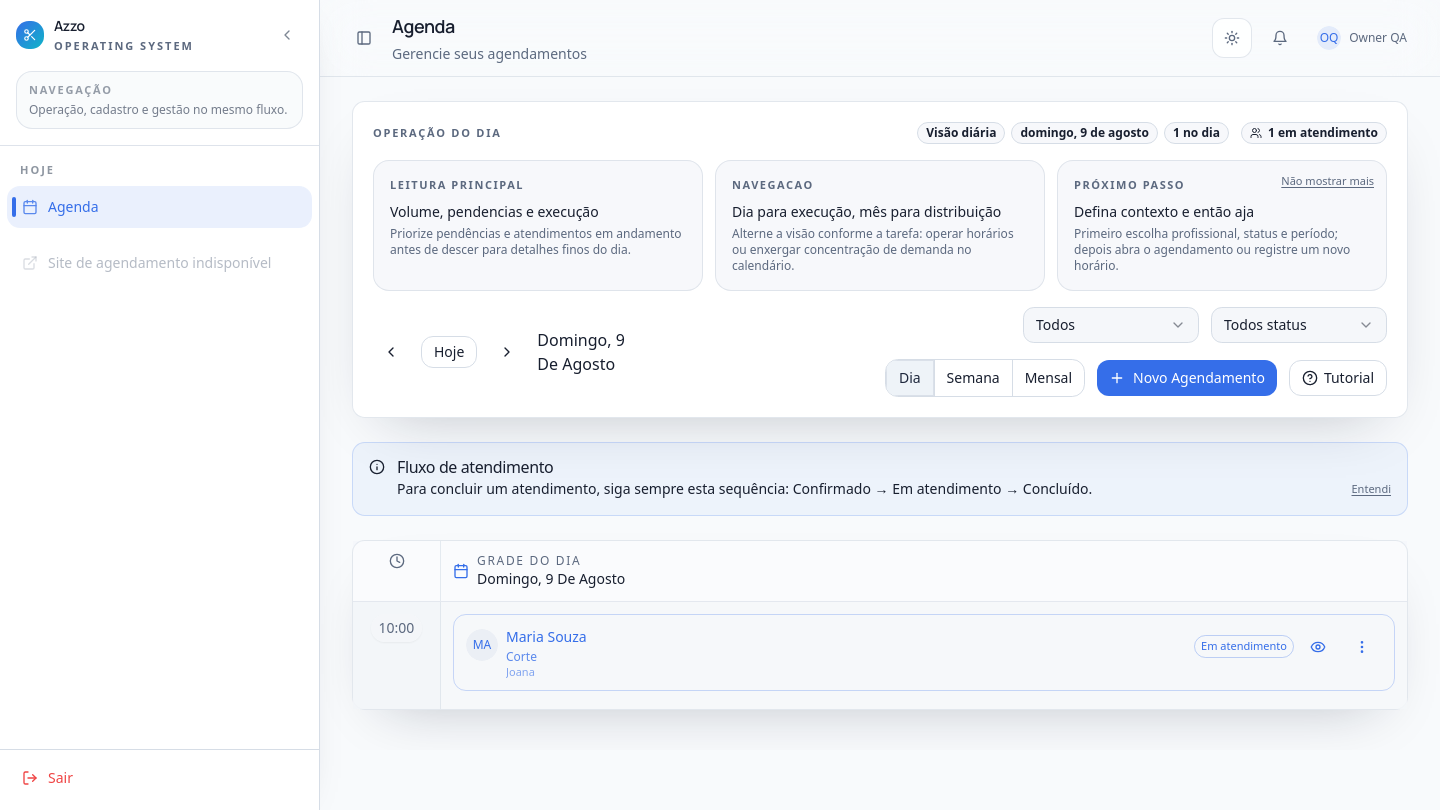
it: Agenda › shows client, service and amount before confirming a completion
Click the button named "Mais ações do agendamento": (1362, 646) top-left (1342, 626), bottom-right (1382, 666)
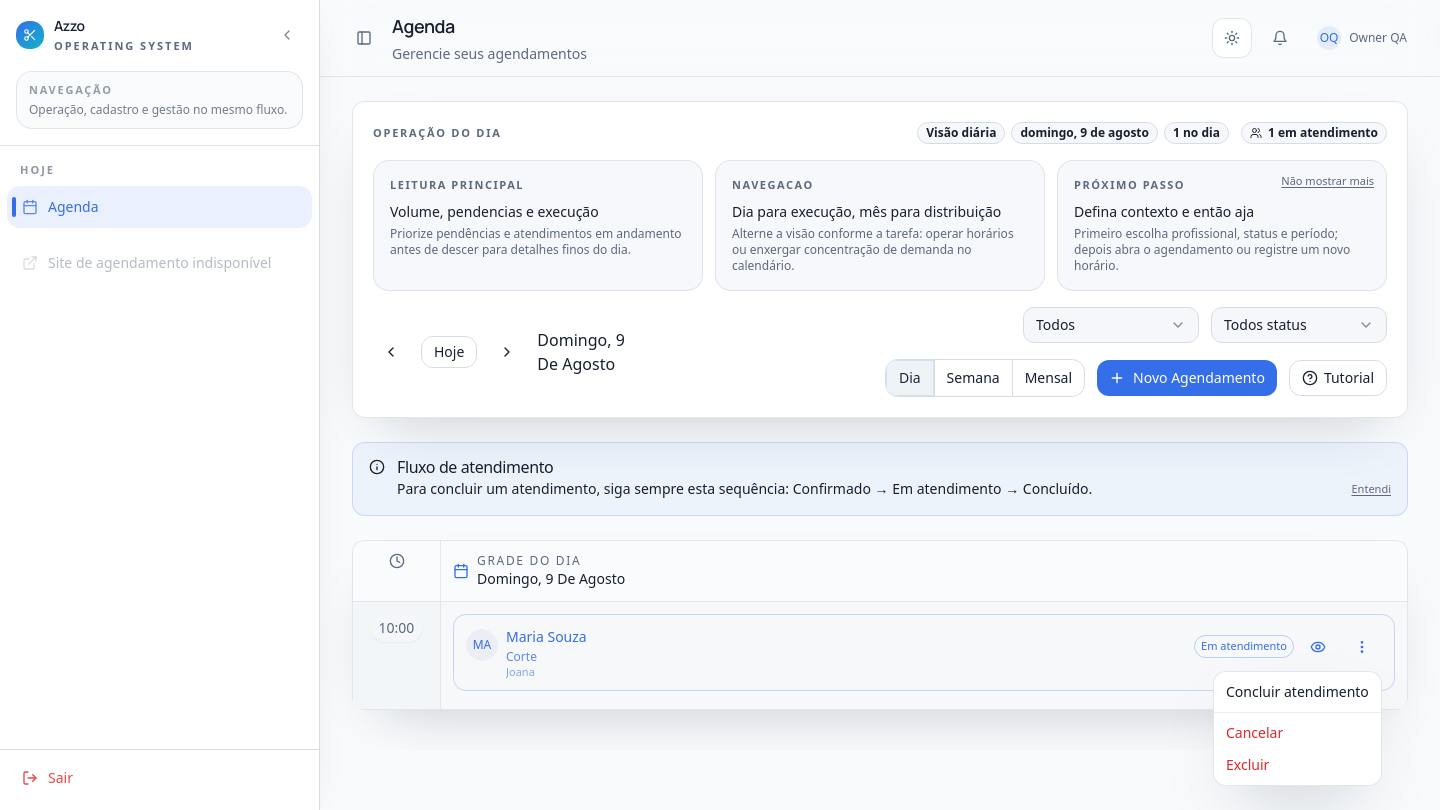
Click the menu item "Concluir atendimento": (1297, 692) top-left (1226, 682), bottom-right (1369, 701)
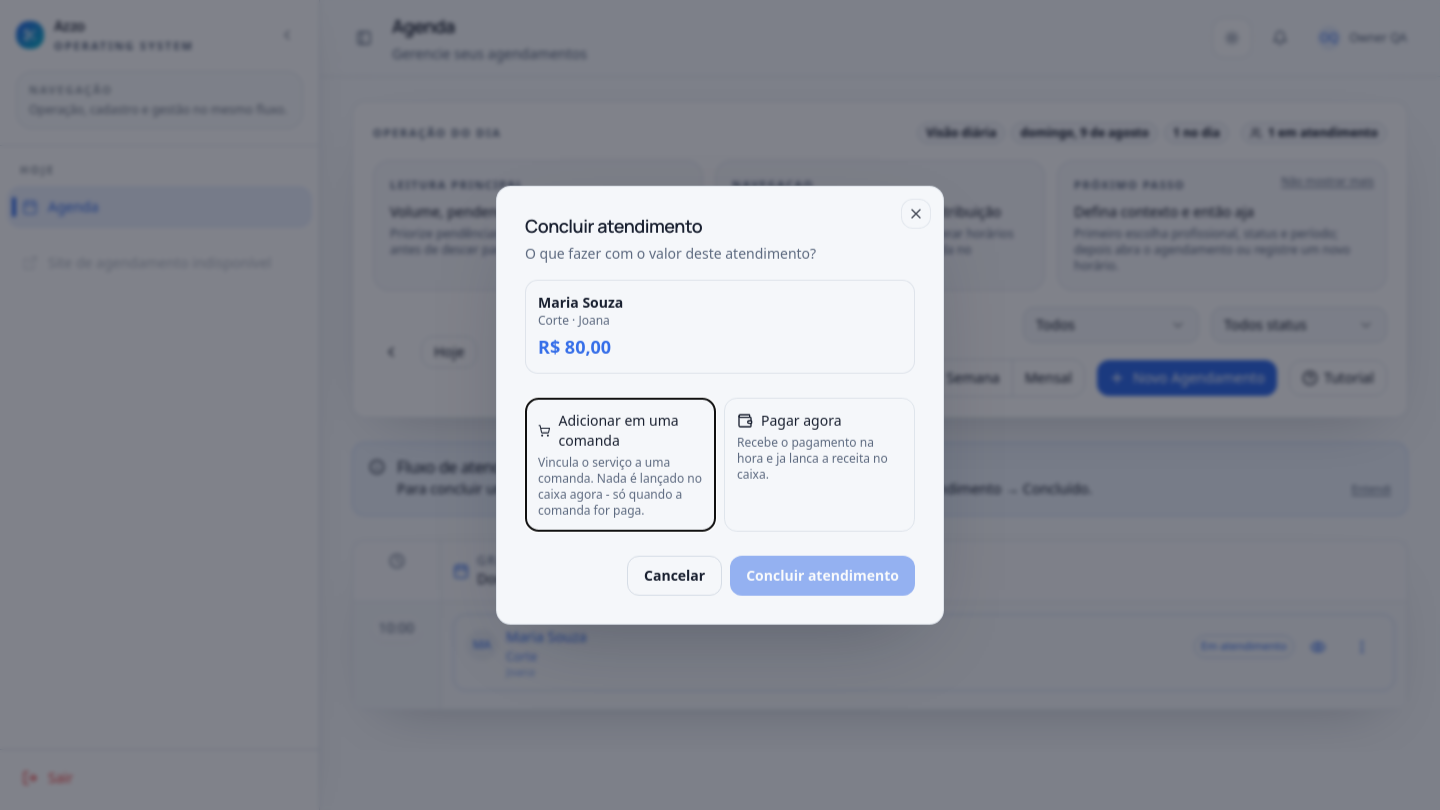
Check: the text "O que fazer com o valor deste atendimento?" is shown, box top-left (525, 243), bottom-right (816, 262)
Check: the text "Maria Souza" is shown, box top-left (538, 292), bottom-right (623, 311)
Check: the text "Corte · Joana" is shown, box top-left (538, 311), bottom-right (610, 328)
